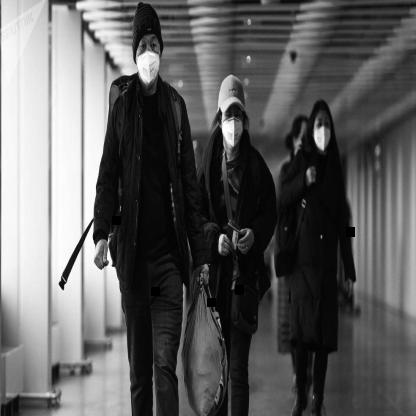mask: (128, 3, 166, 89), (215, 74, 248, 156), (309, 97, 333, 156)
